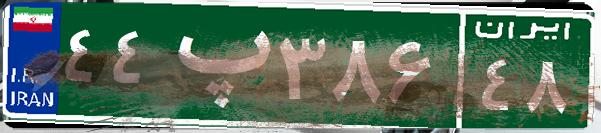3: (273, 28, 330, 110)
4: (57, 26, 110, 107), (475, 38, 525, 113), (110, 28, 158, 105)
6: (385, 28, 445, 110)
8: (330, 28, 385, 110), (525, 38, 570, 115)
پ: (158, 15, 273, 115)
